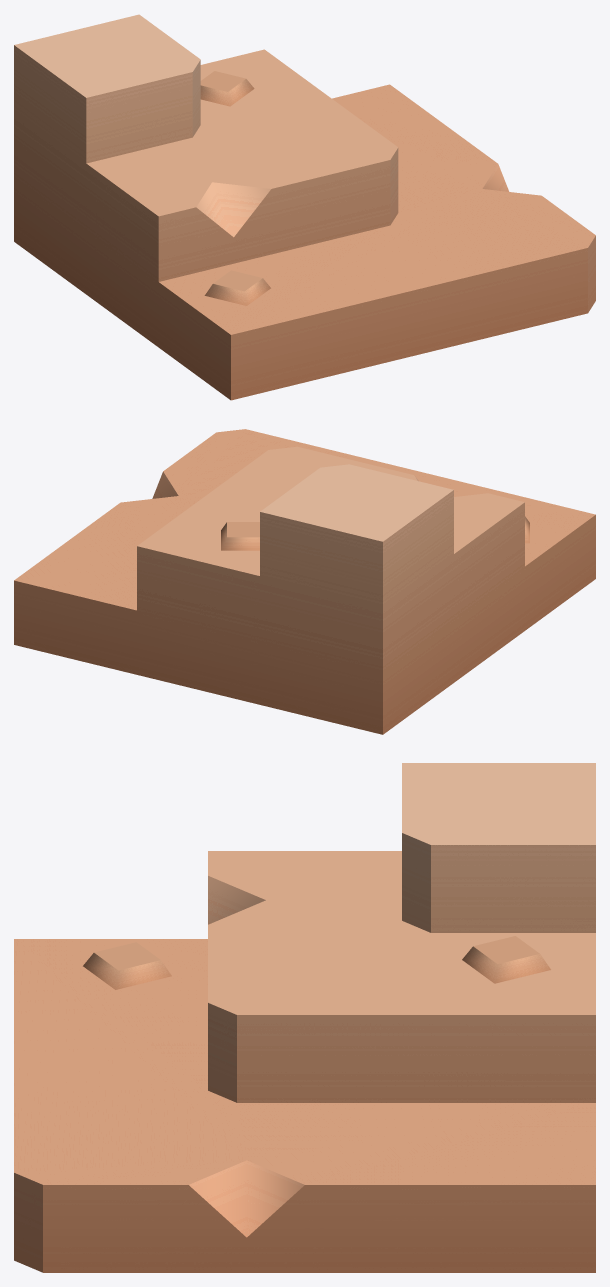
3 renders of one model, top to bottom at view 1: azimuth 30°, elevation 25°; view 2: azimuth 150°, elevation 25°; view 3: azimuth 270°, elevation 25°, orthographic. The views are drawn at different scales.
Visible parts, largest first — view 1: stairs-corner; view 2: stairs-corner; view 3: stairs-corner.
Part boxes in pixels (<box>): stairs-corner: <box>14,14,595,400</box>; stairs-corner: <box>14,429,595,734</box>; stairs-corner: <box>14,763,595,1272</box>.
Size of the model in its own units: 1 by 0.5 by 1.
1 material, 1 textured.
